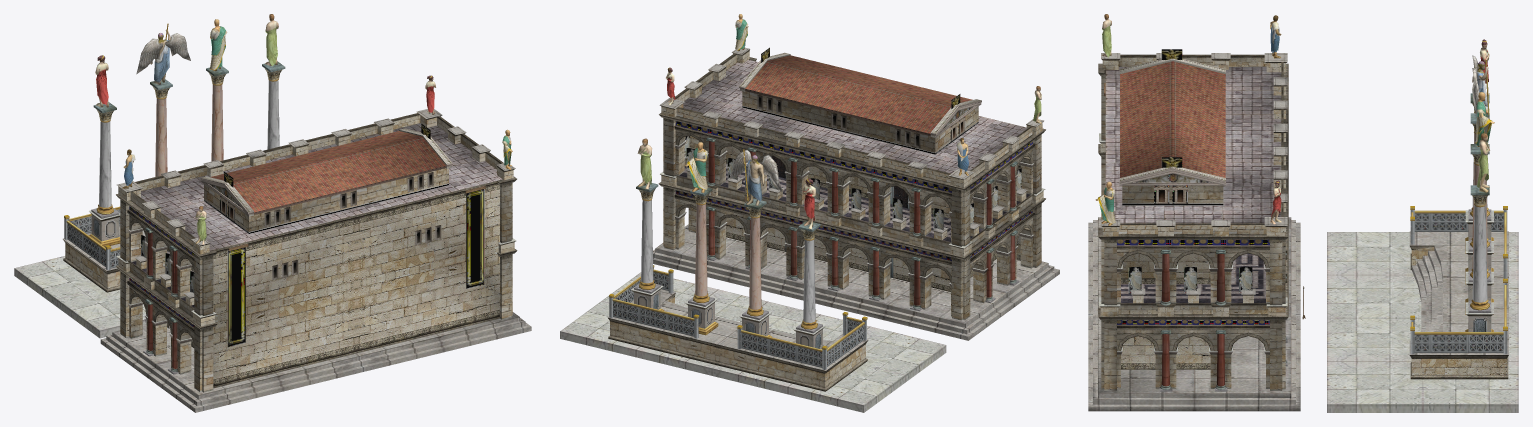
File: rome_town_center.glb
3 views of the same model, side by side, from view 1: azimuth 30°, elevation 25°; view 2: azimuth 150°, elevation 25°; view 3: azimuth 270°, elevation 25° (orthographic). The views are drawn at different scales.
Visible parts, largest first — view 1: rome_town_center_part0, rome_town_center_part3, rome_town_center_part4, rome_town_center_part2; view 2: rome_town_center_part0, rome_town_center_part3, rome_town_center_part2, rome_town_center_part4; view 3: rome_town_center_part0, rome_town_center_part3, rome_town_center_part2, rome_town_center_part4.
Boxes of the visible parts, x1,y1,x2,y2 form: rome_town_center_part0: (100, 109, 531, 412); rome_town_center_part3: (14, 61, 285, 338); rome_town_center_part4: (95, 14, 512, 245); rome_town_center_part2: (67, 124, 430, 293); rome_town_center_part0: (653, 47, 1059, 340); rome_town_center_part3: (560, 183, 946, 412); rome_town_center_part2: (613, 47, 1021, 367); rome_town_center_part4: (637, 14, 1041, 229); rome_town_center_part0: (1088, 53, 1300, 411); rome_town_center_part3: (1327, 93, 1518, 412); rome_town_center_part2: (1128, 49, 1503, 352); rome_town_center_part4: (1095, 14, 1494, 225).
Size of the model in its own units: 6.2 by 4.04 by 6.13.
3 materials, 3 textured.
